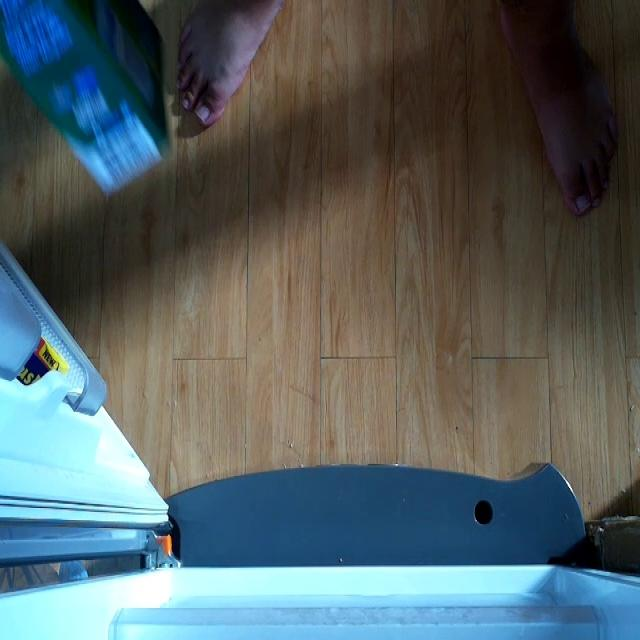milk: (2, 3, 171, 195)
